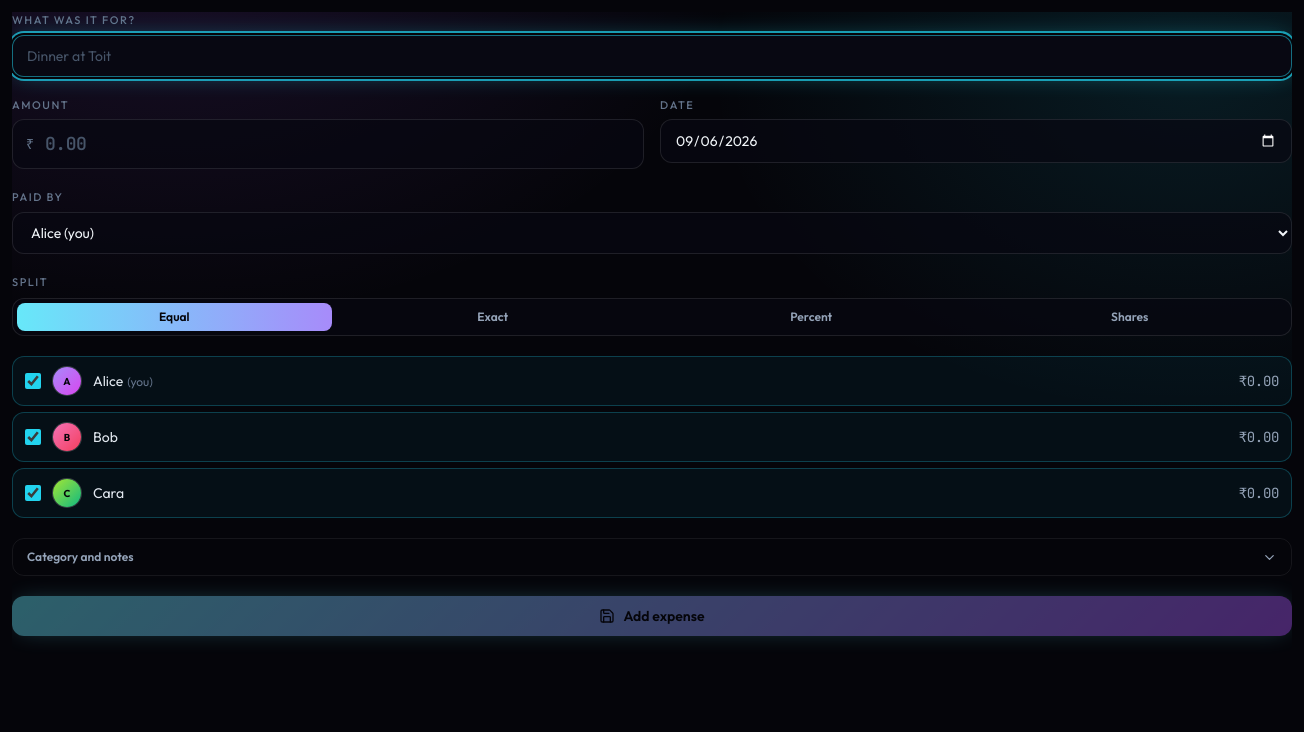
Scenario: ExpenseForm › split-total validation › flags an over-allocated split too
In the field labelled "What was it for?": {"x": 652, "y": 56} [12, 34, 1292, 76], type "Rent"
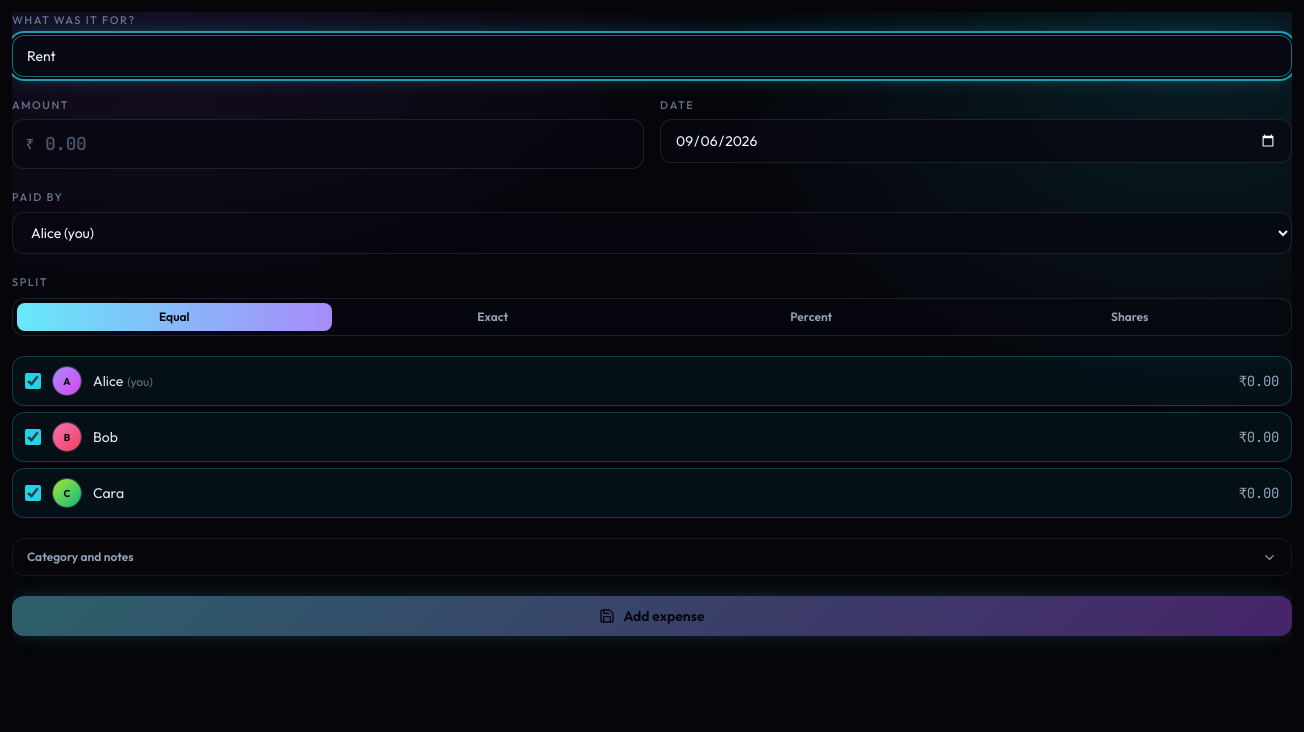
In the field labelled "Amount": {"x": 328, "y": 144} [12, 119, 644, 169], type "100"
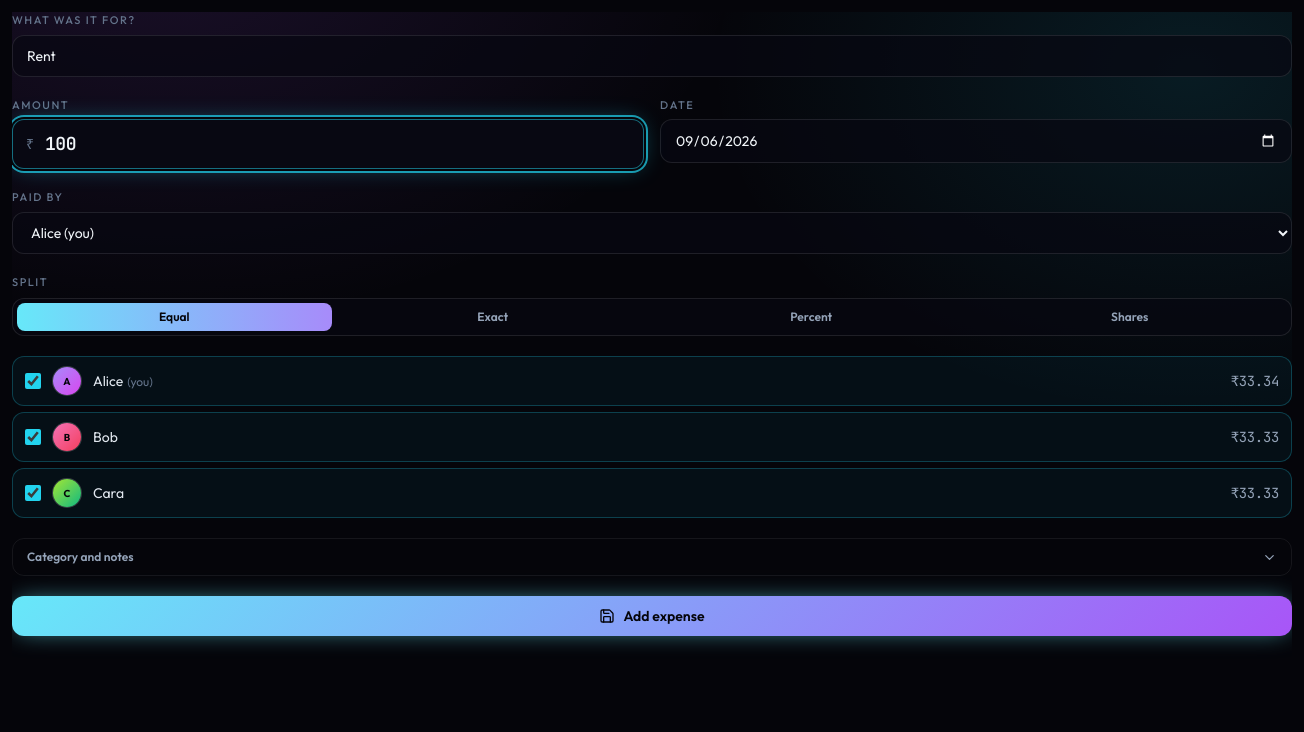
Click the button "Exact": {"x": 493, "y": 317} [336, 303, 650, 331]
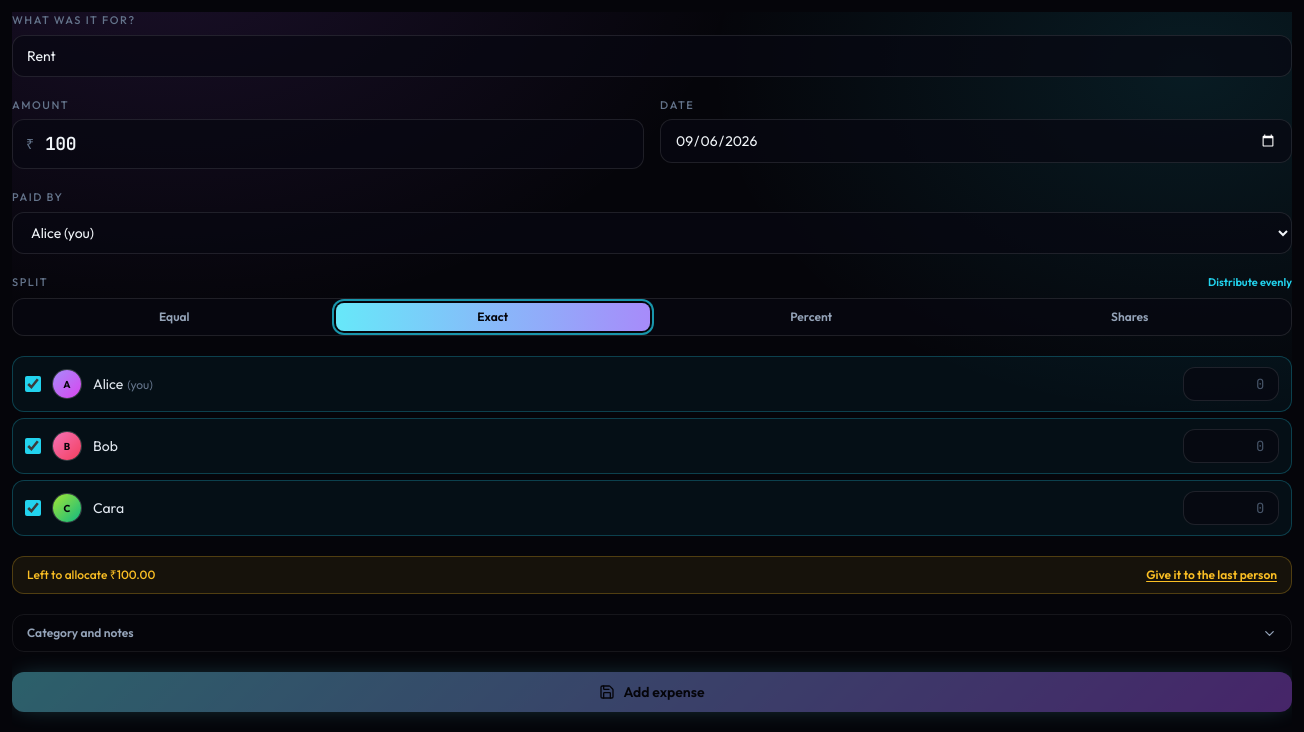
In the field named "Alice INR": {"x": 1231, "y": 384} [1183, 367, 1279, 401], type "200"
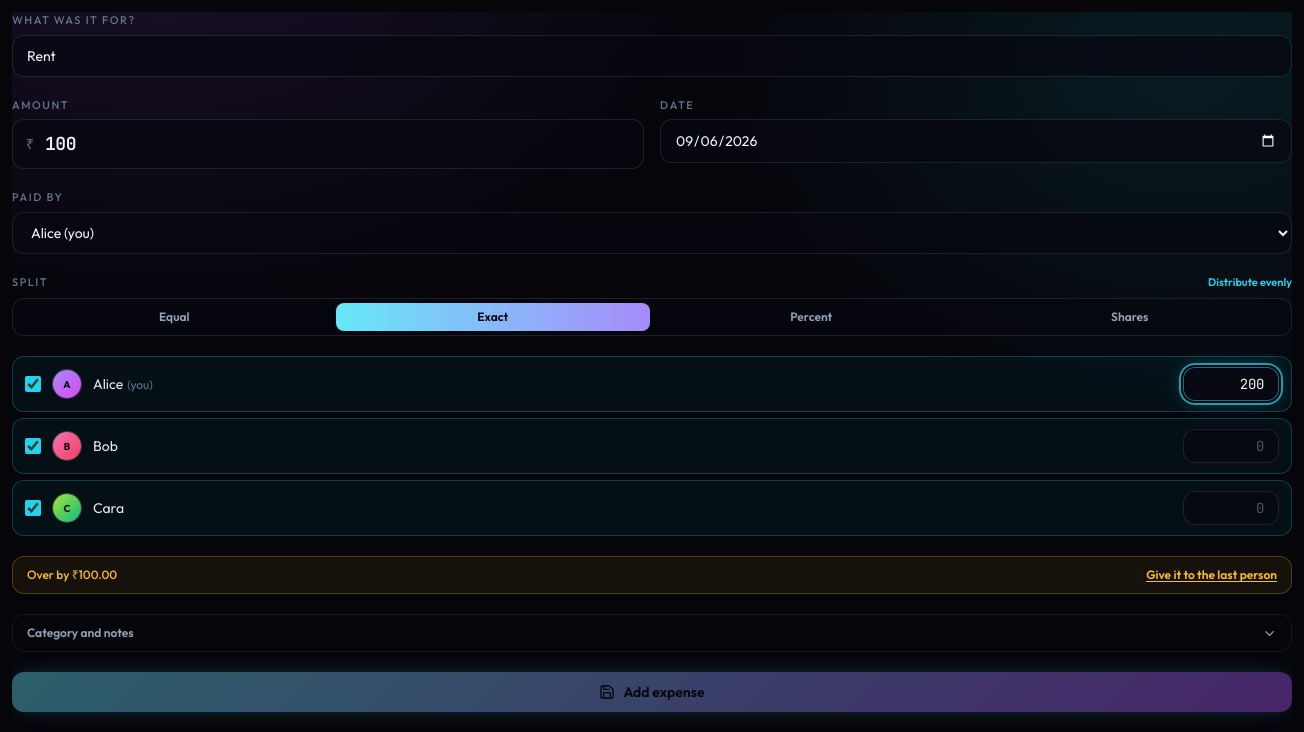
Expected: the button "Add expense" is disabled, [12, 672, 1292, 712]
Expected: the text "Over by ₹100.00" is shown, [27, 567, 117, 583]
